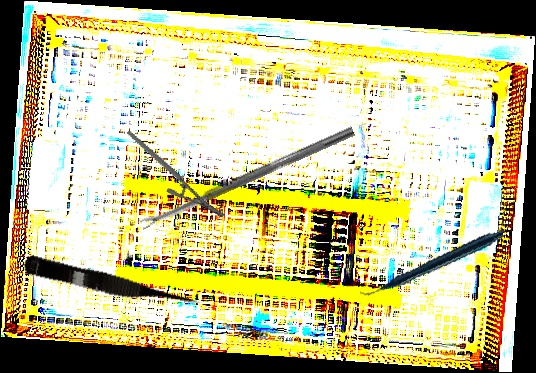Handpiece: (359, 202, 505, 322)
Micro Scissor: (20, 253, 205, 318)
Needle Holder: (126, 110, 226, 238)
Surgical Spoon: (138, 125, 356, 230)
